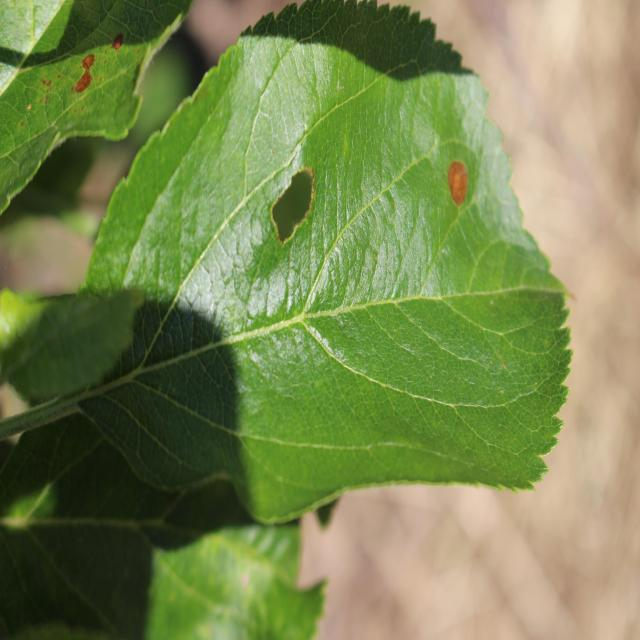Black Rot: (433, 146, 475, 221), (75, 47, 100, 106), (108, 18, 124, 57)
